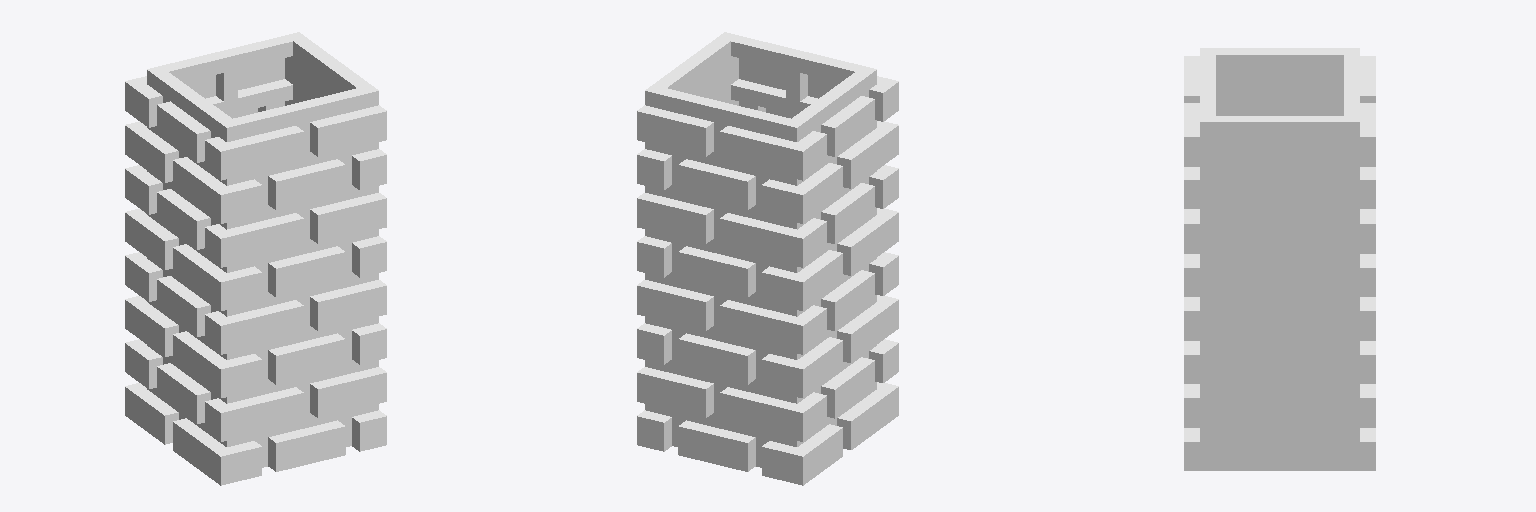
Rendered from tri_column_h24_rc_1.0.obj.
3 views of the same model, side by side, from view 1: azimuth 30°, elevation 25°; view 2: azimuth 150°, elevation 25°; view 3: azimuth 270°, elevation 25° (orthographic).
Visible parts, largest first — view 1: object 1; view 2: object 1; view 3: object 1.
Boxes of the visible parts, x1=… form: object 1: x1=125, y1=32, x2=386, y2=485; object 1: x1=637, y1=32, x2=898, y2=485; object 1: x1=1184, y1=48, x2=1375, y2=470.
Bounding box in the file's own units: 1.2 × 2.4 × 1.2.